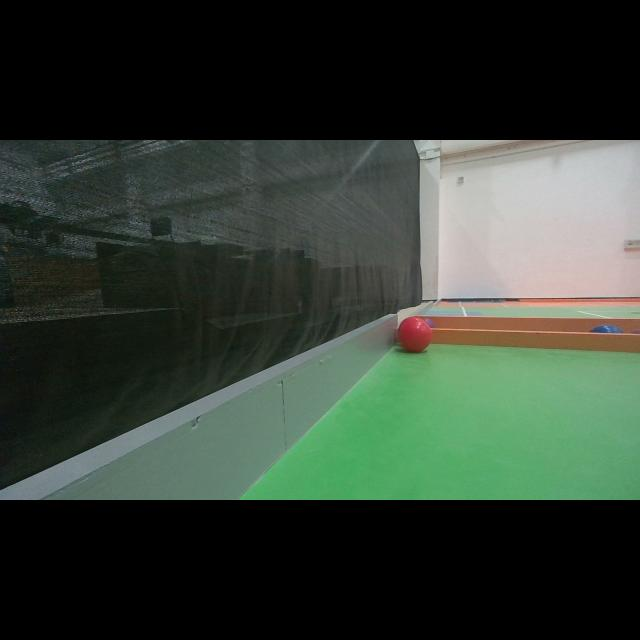R: (398, 320, 432, 352)
